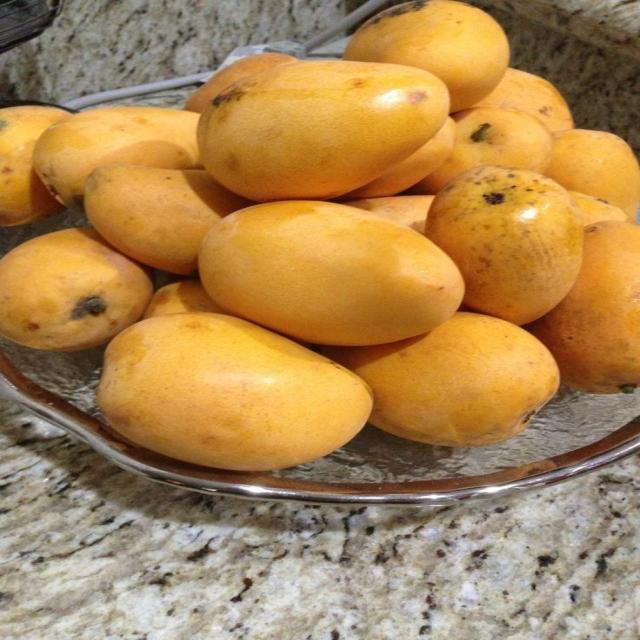mango: (97, 313, 372, 471), (200, 201, 463, 345), (198, 61, 448, 201), (324, 312, 558, 446), (426, 166, 583, 325), (527, 221, 639, 393), (343, 0, 509, 113), (0, 228, 153, 350), (85, 164, 253, 275), (344, 0, 509, 112), (34, 107, 200, 208), (411, 106, 551, 194), (544, 129, 639, 221), (0, 106, 68, 226), (473, 69, 572, 131), (143, 278, 225, 318), (348, 196, 434, 232)
